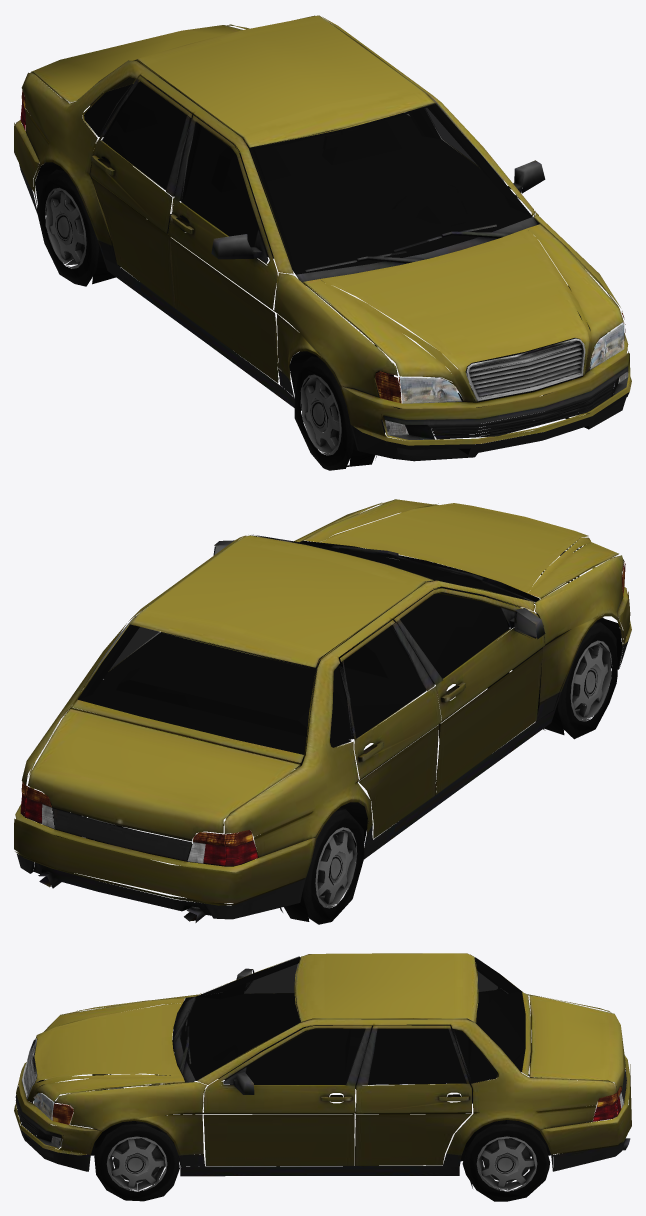
The model's file is car-sedan.glb.
3 views of the same model, one above another, from view 1: azimuth 30°, elevation 25°; view 2: azimuth 150°, elevation 25°; view 3: azimuth 270°, elevation 25° (orthographic). The views are drawn at different scales.
Parts seen in each view (by area): view 1: Sedan Body_Body_0; view 2: Sedan Body_Body_0; view 3: Sedan Body_Body_0.
Part boxes in pixels (x1,y1,x2,y2): Sedan Body_Body_0: (14,15,631,470); Sedan Body_Body_0: (14,499,631,924); Sedan Body_Body_0: (14,953,631,1201).
Size of the model in its own units: 1.94 by 1.35 by 4.36.
Materials: 4 (3 with a texture image).
